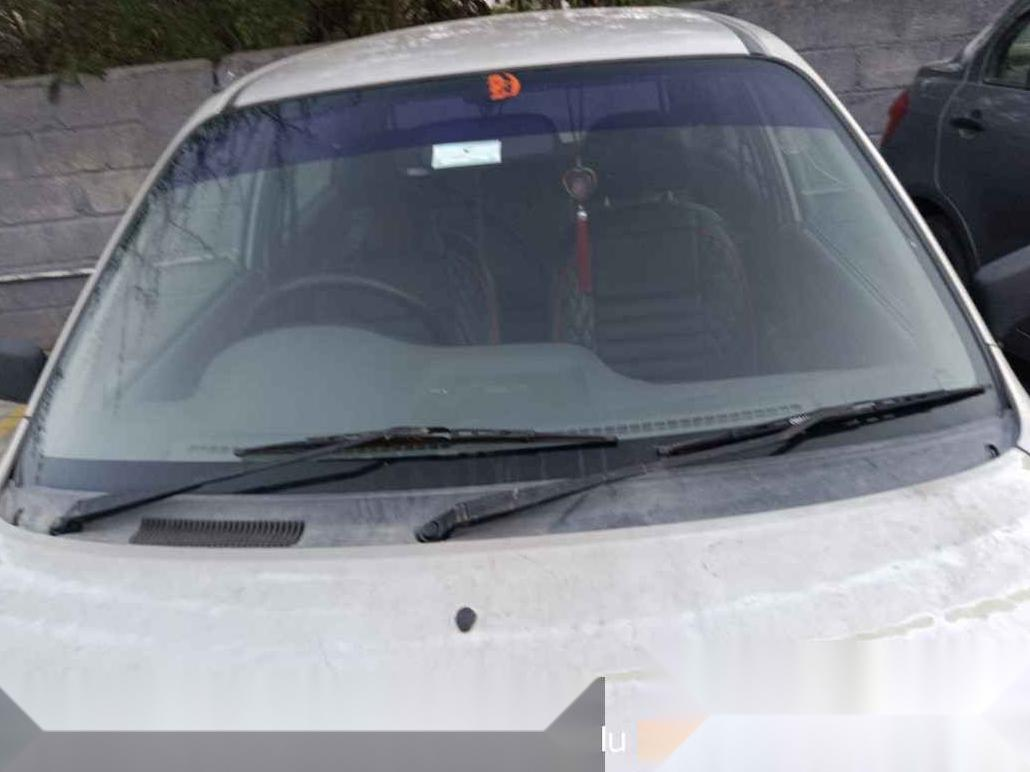FastTag: (421, 132, 517, 180)
